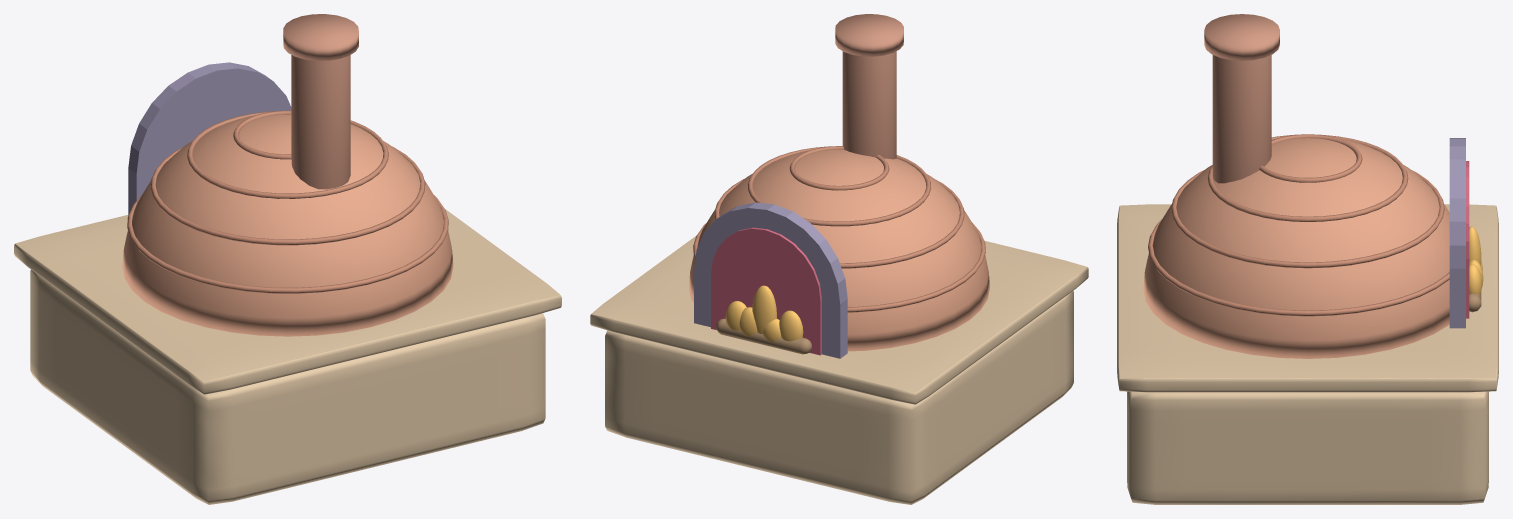
The model's file is EatsaPizzaOven.glb.
3 renders of one model, left to right at view 1: azimuth 30°, elevation 25°; view 2: azimuth 150°, elevation 25°; view 3: azimuth 270°, elevation 25°, orthographic. The views are drawn at different scales.
Parts seen in each view (by area): view 1: Base, Dome, Chimney, Rim, Bricks; view 2: Base, Dome, Mouth, Chimney, Rim, Bricks, Fire, Logs; view 3: Base, Dome, Chimney, Bricks, Rim, Fire, Mouth.
Boxes of the visible parts, x1,y1,x2,y2 form: Base: (14, 209, 561, 504); Dome: (122, 114, 453, 336); Chimney: (283, 14, 358, 189); Rim: (128, 62, 291, 215); Bricks: (127, 110, 448, 293); Base: (590, 235, 1088, 504); Dome: (689, 149, 989, 351); Mouth: (711, 227, 821, 355); Chimney: (835, 14, 903, 159); Rim: (694, 202, 847, 358); Bricks: (693, 146, 985, 312); Fire: (725, 285, 803, 341); Logs: (716, 318, 811, 354); Base: (1117, 204, 1498, 504); Dome: (1143, 138, 1449, 358); Chimney: (1204, 14, 1279, 183); Bricks: (1148, 134, 1449, 316); Rim: (1449, 138, 1465, 328); Fire: (1469, 226, 1483, 294); Mouth: (1466, 161, 1469, 318).
Bounding box in the file's own units: 12.6 × 13.3 × 11.6.
